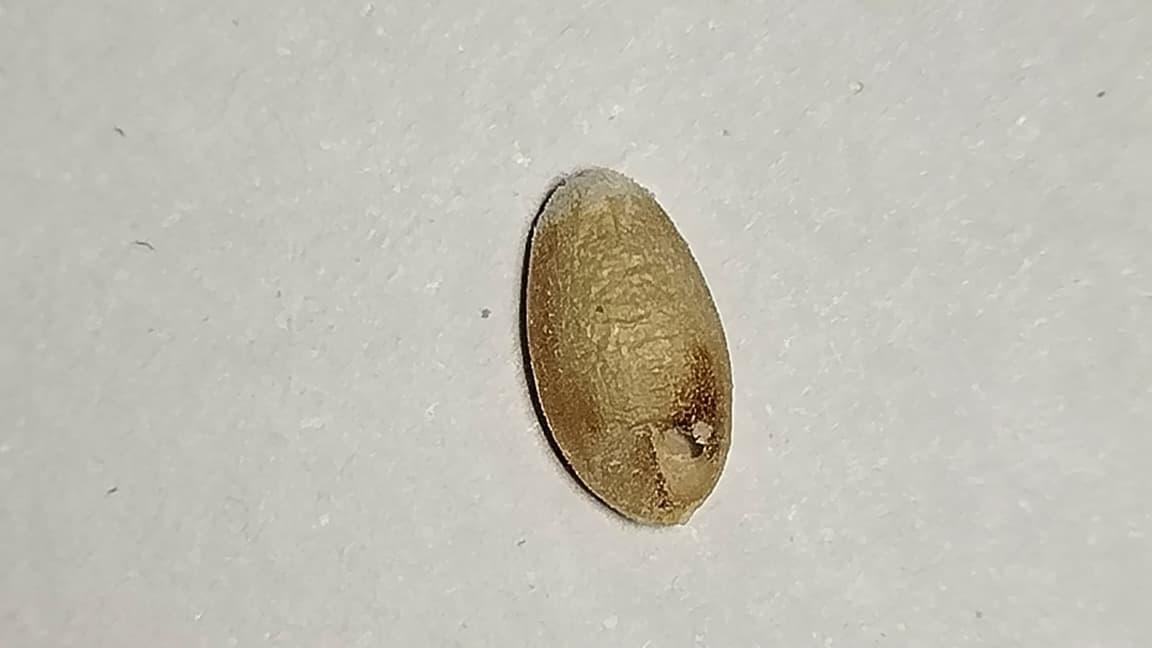damage: (522, 166, 731, 526)
insectdamage: (629, 417, 723, 509)
staindamage: (669, 345, 735, 444)
